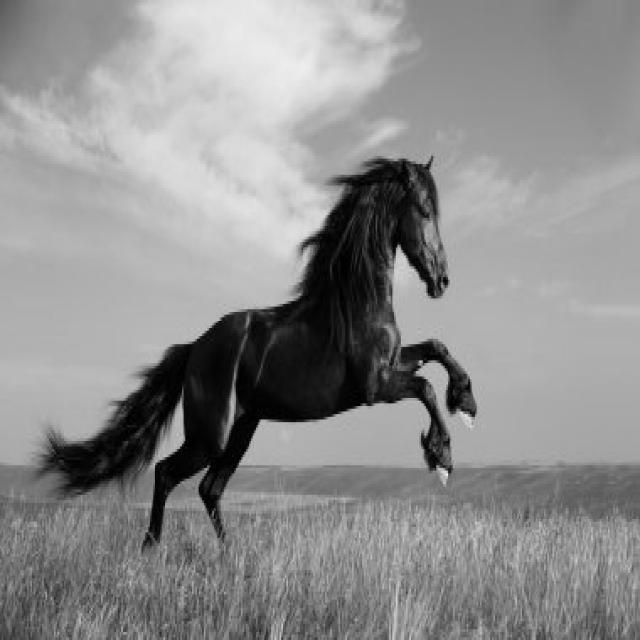Animal: (44, 160, 477, 545)
